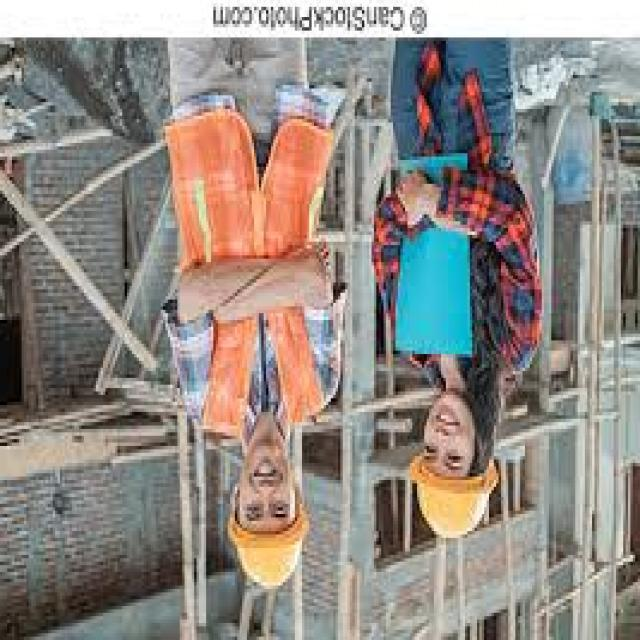safetyhelmet: (399, 405, 499, 543), (223, 467, 312, 598)
